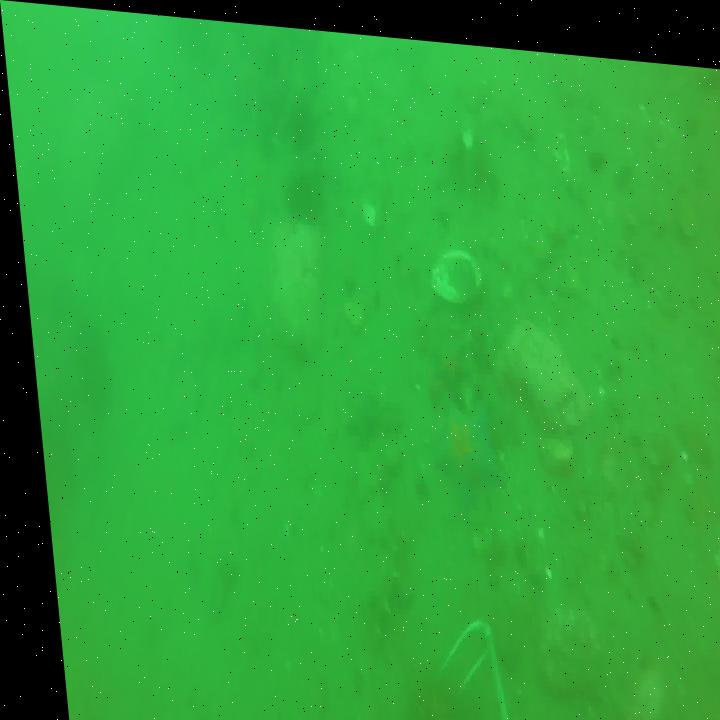echinus: (281, 152, 320, 223)
holothurian: (343, 538, 394, 646)
scallop: (424, 240, 482, 296)
starfish: (420, 395, 499, 501)
